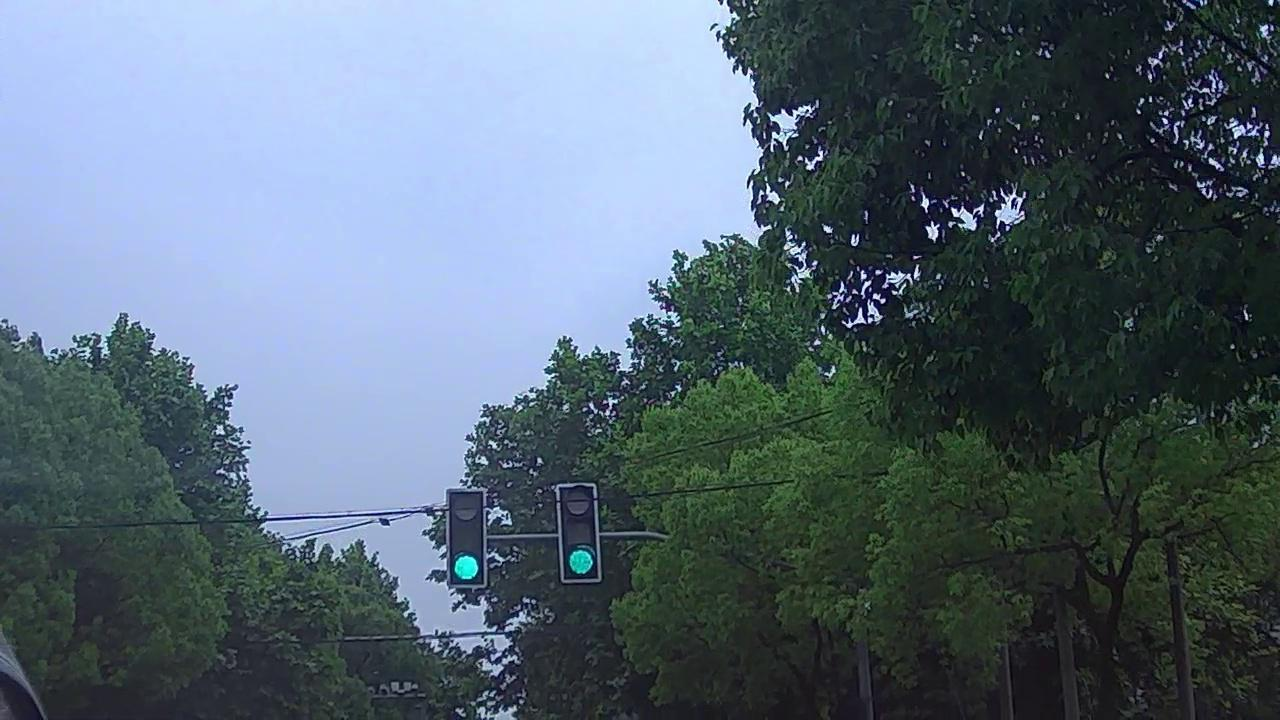traffic_light: (446, 487, 490, 588), (562, 488, 599, 579)
